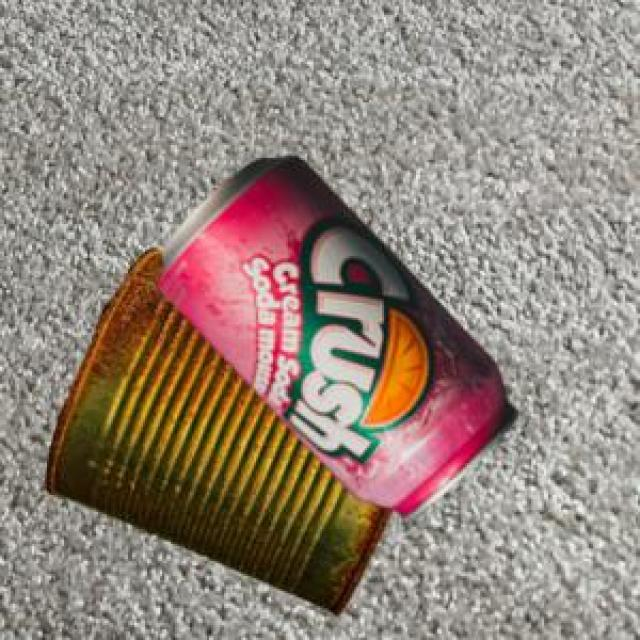logam: (157, 155, 515, 519), (44, 246, 389, 611)
